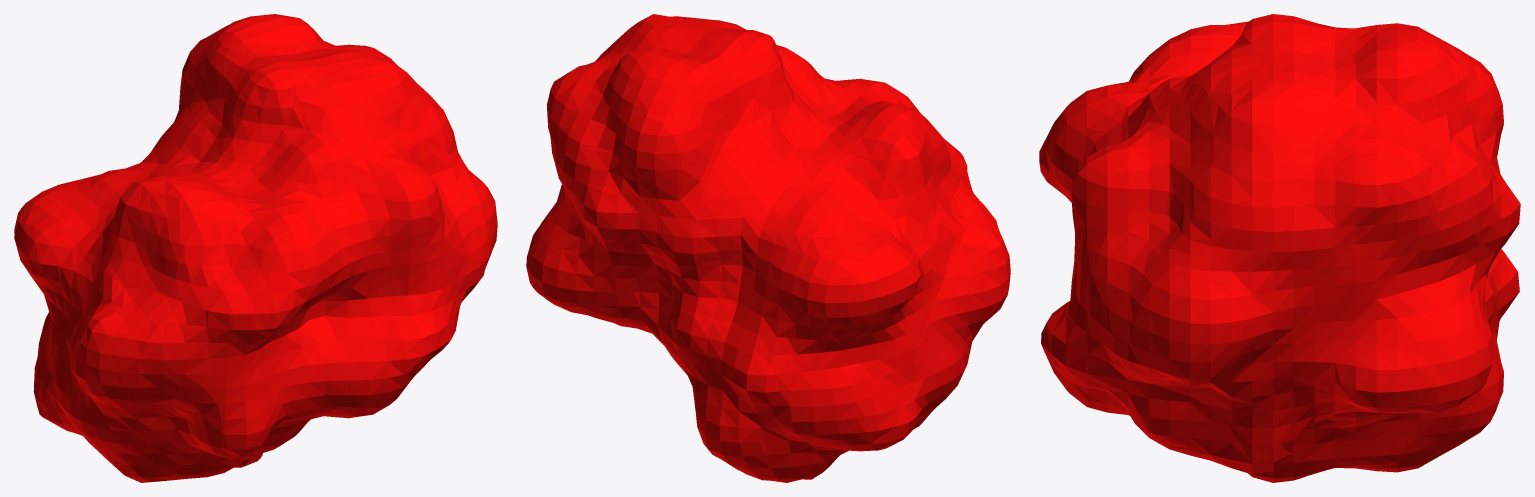
File: minD_coarse.dae
The picture shows the model from 3 angles, left to right: view 1: azimuth 30°, elevation 25°; view 2: azimuth 150°, elevation 25°; view 3: azimuth 270°, elevation 25°; orthographic projection. The views are drawn at different scales.
Visible parts, largest first — view 1: minD; view 2: minD; view 3: minD.
Boxes of the visible parts, x1,y1,x2,y2 form: minD: (14,14,497,482); minD: (526,14,1010,482); minD: (1039,14,1520,482).
Size of the model in its own units: 67.27 by 60.91 by 54.11.
